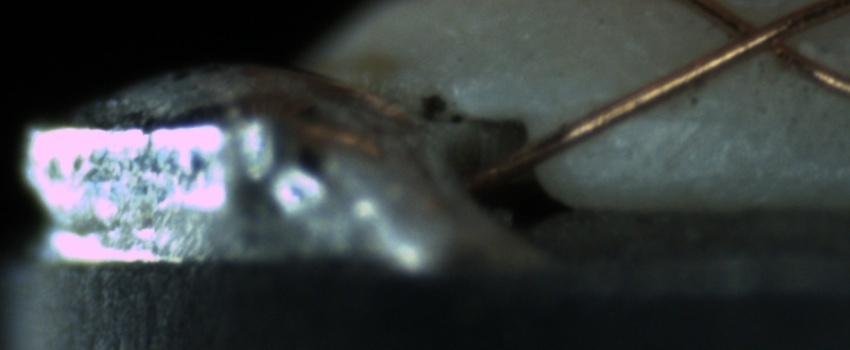CL: (704, 1, 814, 71)
